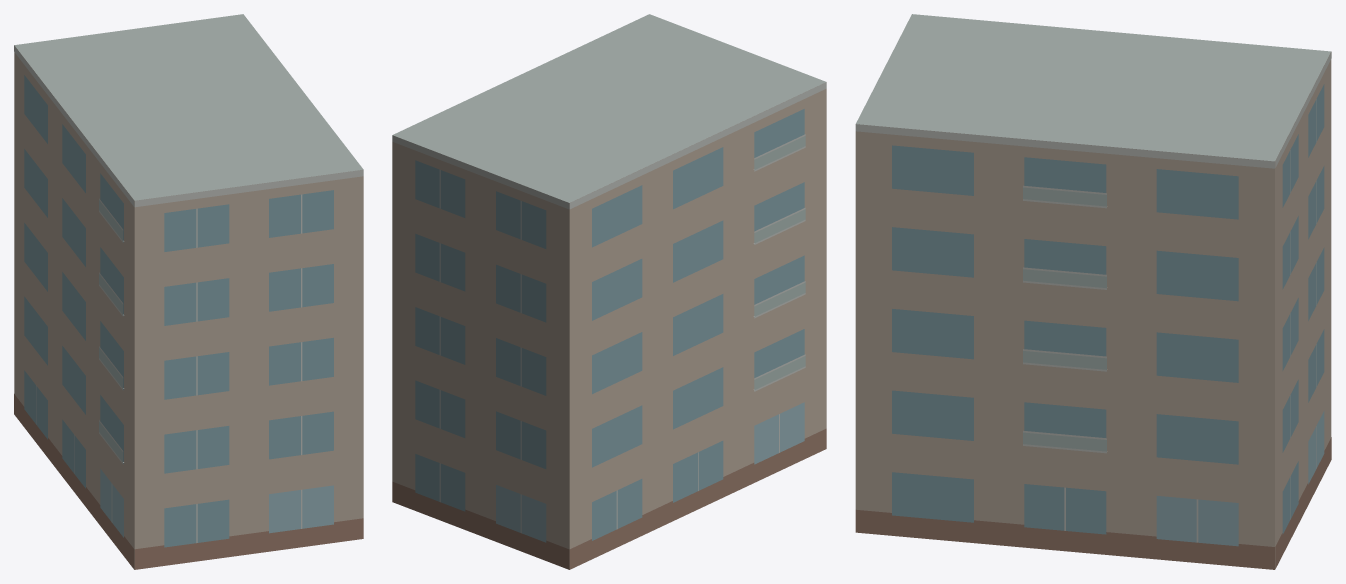
Rendered from survey-upis-32900251.glb.
The picture shows the model from 3 angles, left to right: view 1: azimuth 30°, elevation 25°; view 2: azimuth 150°, elevation 25°; view 3: azimuth 270°, elevation 25°; orthographic projection. The views are drawn at different scales.
Parts seen in each view (by area): view 1: survey-upis-32900251.tmp; view 2: survey-upis-32900251.tmp; view 3: survey-upis-32900251.tmp.
Part boxes in pixels (left/top/right/bottom): survey-upis-32900251.tmp: left=14, top=14, right=363, bottom=569; survey-upis-32900251.tmp: left=392, top=14, right=826, bottom=569; survey-upis-32900251.tmp: left=855, top=14, right=1331, bottom=569.
Bounding box in the file's own units: 10.58 × 13.65 × 14.42.
